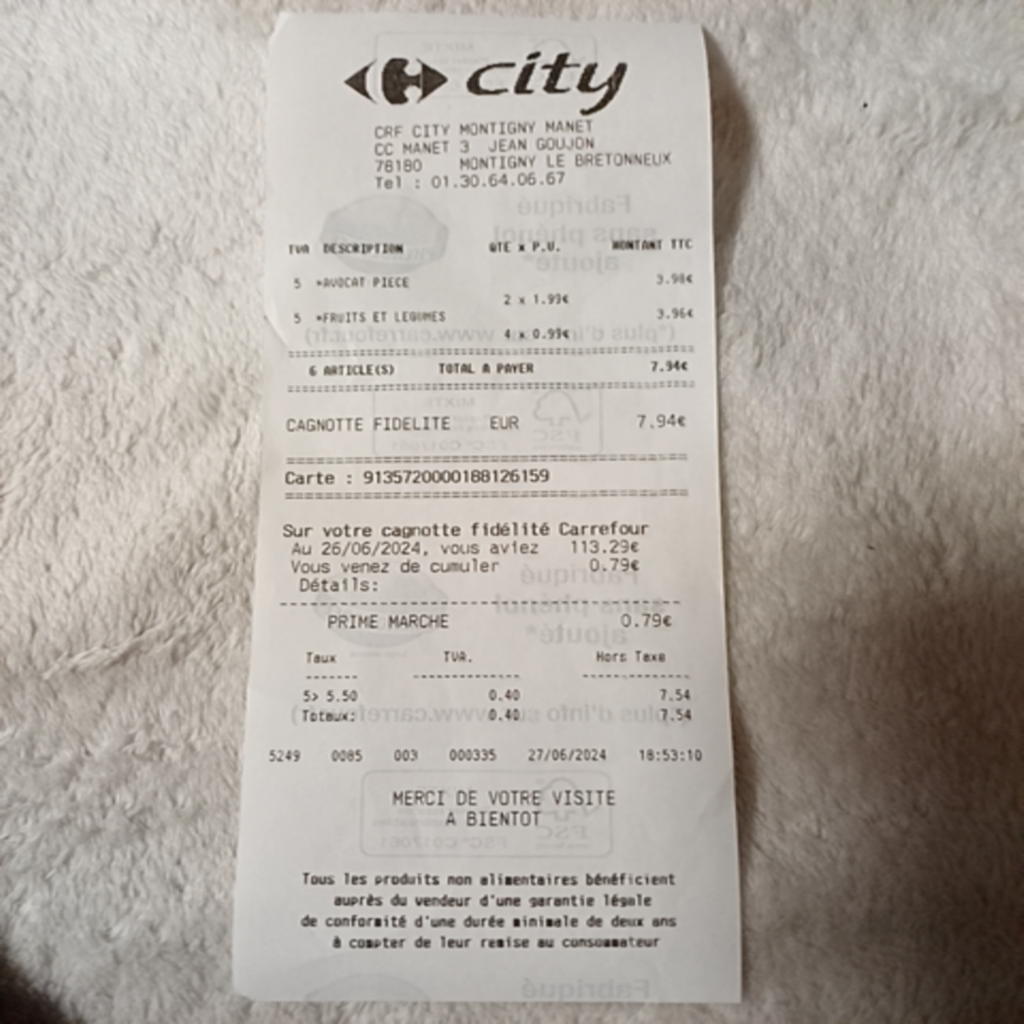recipt: (239, 15, 743, 1001)
